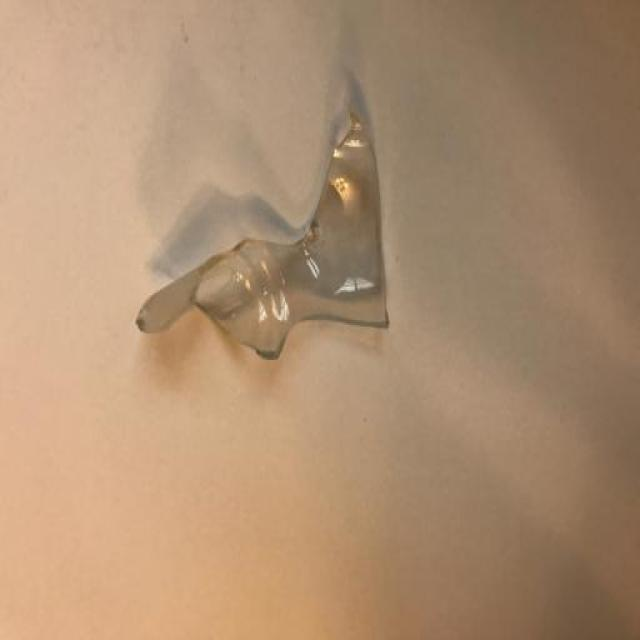Glass: (101, 80, 468, 514)
